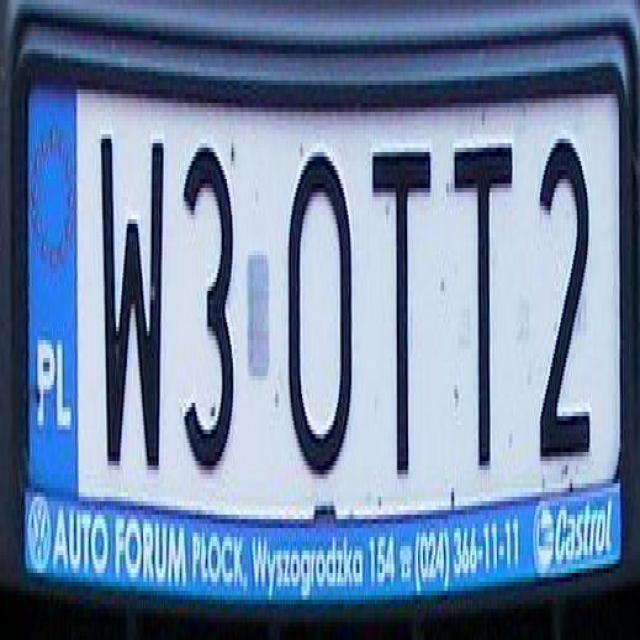pl_license_plate: (27, 81, 618, 519)
